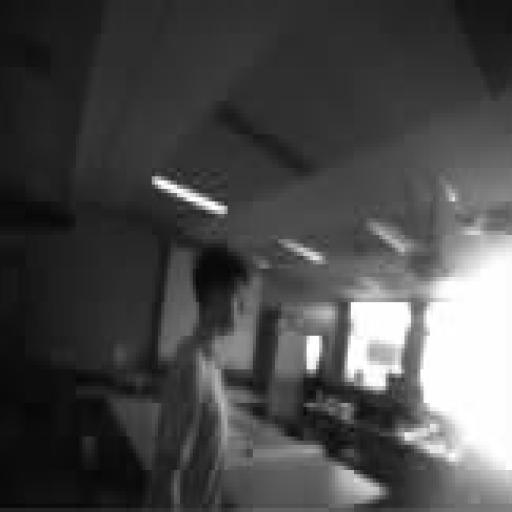human: (146, 244, 249, 511)
